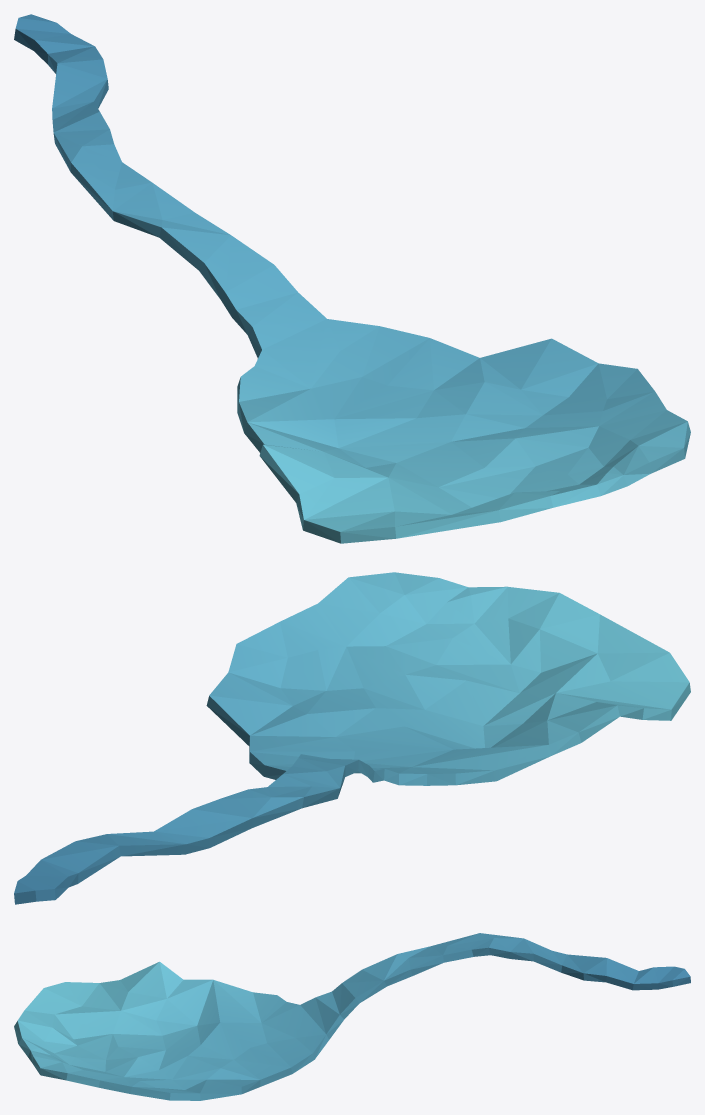
File: water location autumn atmosphere forest.fbx
The picture shows the model from 3 angles, top to bottom: view 1: azimuth 30°, elevation 25°; view 2: azimuth 150°, elevation 25°; view 3: azimuth 270°, elevation 25°; orthographic projection. The views are drawn at different scales.
Parts seen in each view (by area): view 1: water location autumn atmosphere forest; view 2: water location autumn atmosphere forest; view 3: water location autumn atmosphere forest.
Boxes of the visible parts, x1=… form: water location autumn atmosphere forest: x1=14, y1=14, x2=690, y2=543; water location autumn atmosphere forest: x1=14, y1=572, x2=690, y2=904; water location autumn atmosphere forest: x1=14, y1=933, x2=690, y2=1100.
Size of the model in its own units: 1458 by 483 by 3481.
